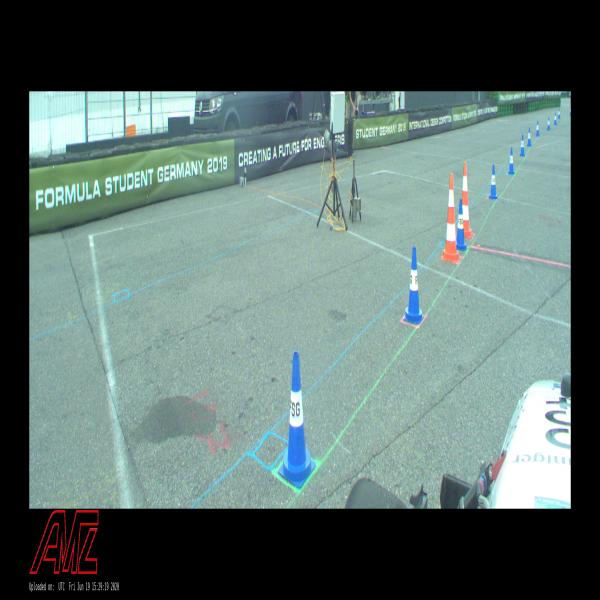blue_cone: (278, 351, 316, 488), (404, 247, 424, 324), (457, 199, 467, 250), (488, 165, 498, 199), (508, 148, 515, 174), (520, 134, 525, 156), (527, 128, 532, 146), (536, 121, 540, 136), (547, 117, 550, 130), (554, 113, 557, 124), (558, 108, 560, 119), (570, 109, 570, 116)
large_orange_cone: (441, 174, 462, 264), (462, 162, 473, 238)
